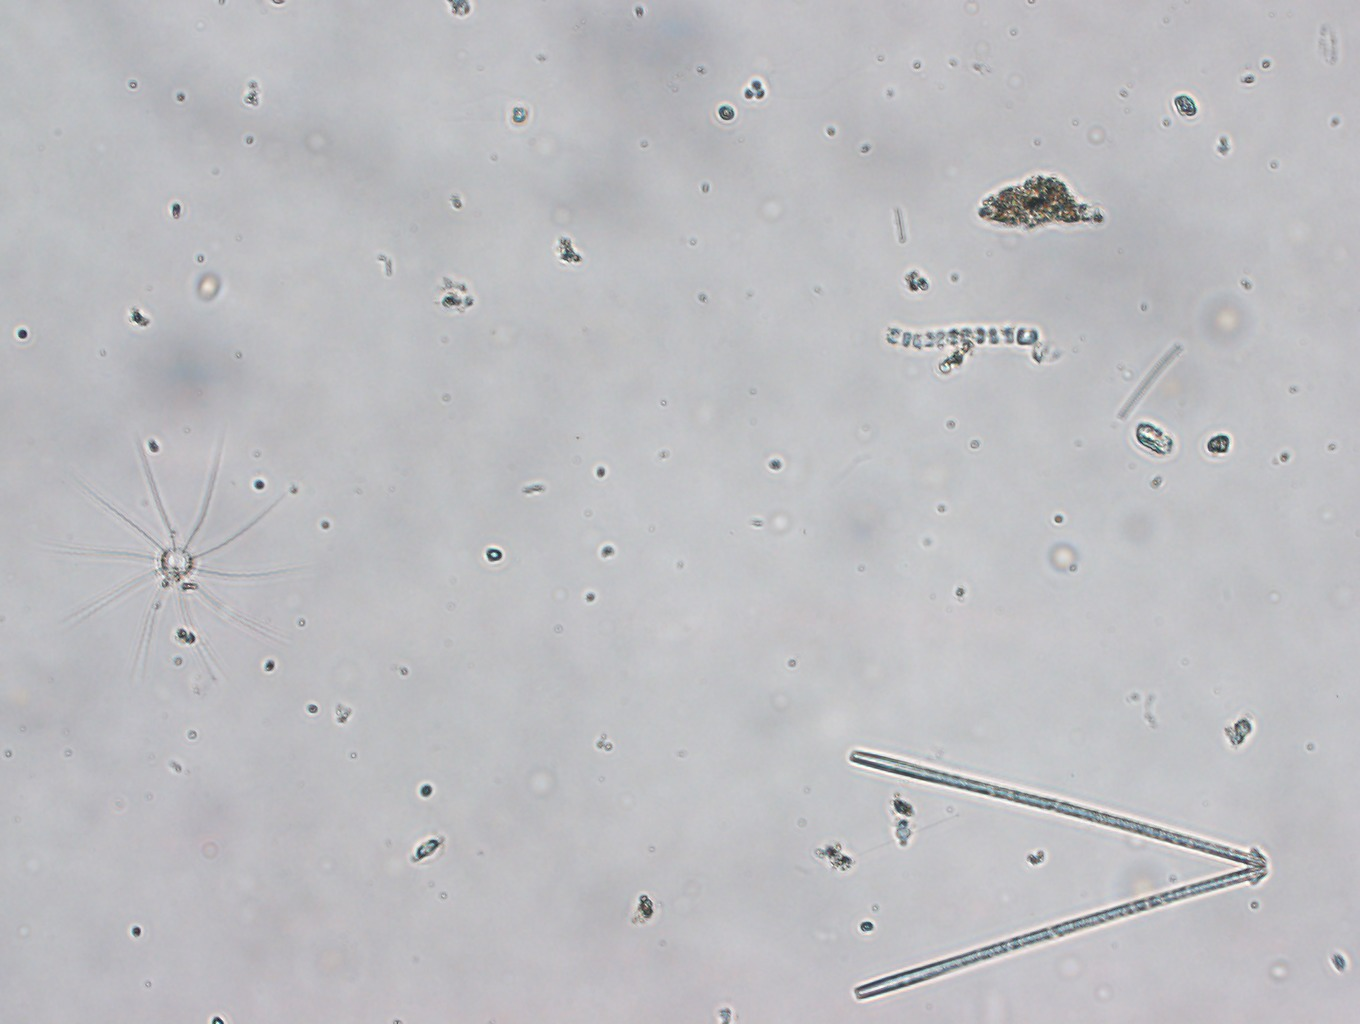bacteriastrum: (74, 446, 313, 691)
skeletonema: (887, 316, 1071, 367)
thalassionema frauenfeldii: (841, 733, 1272, 1002)
